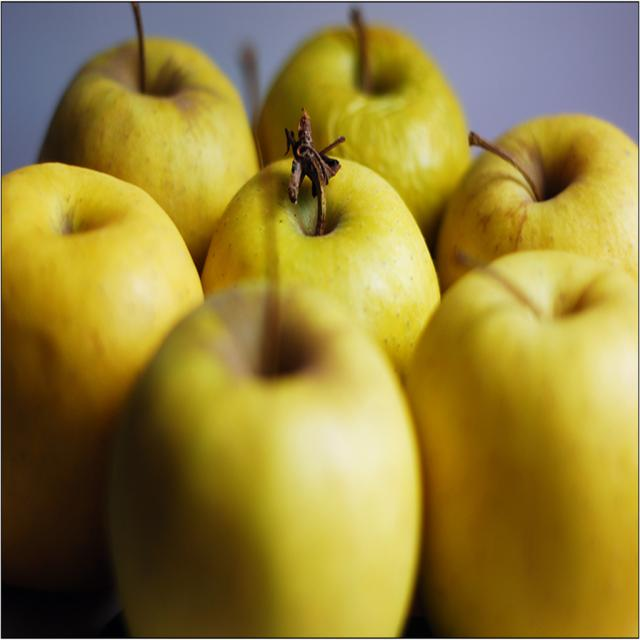Healty Apple: (0, 0, 639, 639), (405, 248, 639, 639), (45, 22, 264, 258)
